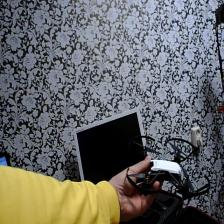drone: (130, 130, 213, 208)
